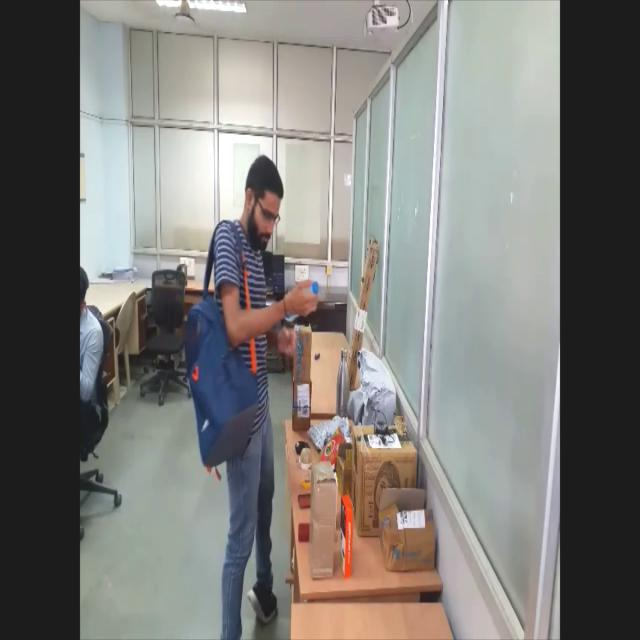normal: (186, 157, 323, 634)
